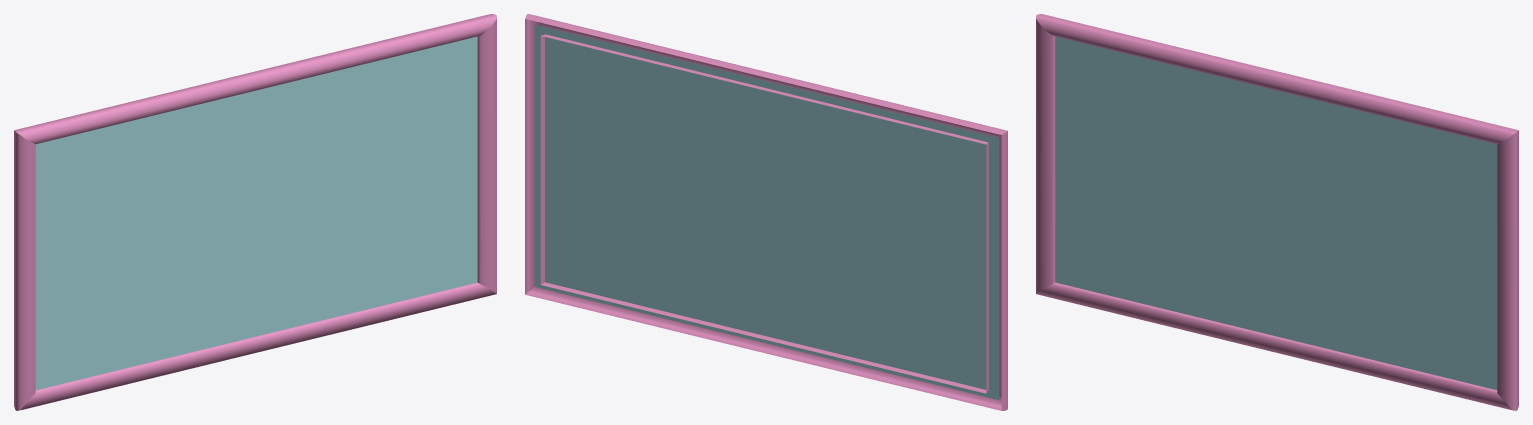
Rendered from Friday_House_Window 1.fbx.
3 renders of one model, left to right at view 1: azimuth 30°, elevation 25°; view 2: azimuth 150°, elevation 25°; view 3: azimuth 330°, elevation 25°, orthographic.
Visible parts, largest first — view 1: Glass, Window; view 2: Glass, Window; view 3: Glass, Window.
Part boxes in pixels (x1=…): Glass: x1=35, y1=36, x2=477, y2=389; Window: x1=14, y1=14, x2=496, y2=410; Glass: x1=534, y1=24, x2=998, y2=399; Window: x1=525, y1=14, x2=1007, y2=410; Glass: x1=1055, y1=36, x2=1497, y2=389; Window: x1=1036, y1=14, x2=1518, y2=410.
Size of the model in its own units: 106 by 58.99 by 2.63.
